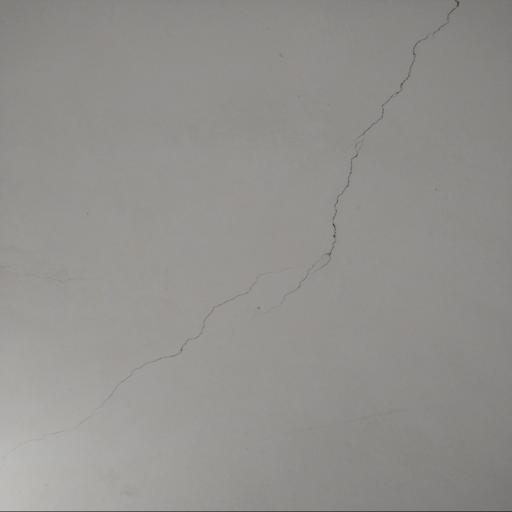minor_crack: (276, 0, 466, 315), (0, 264, 272, 473)
